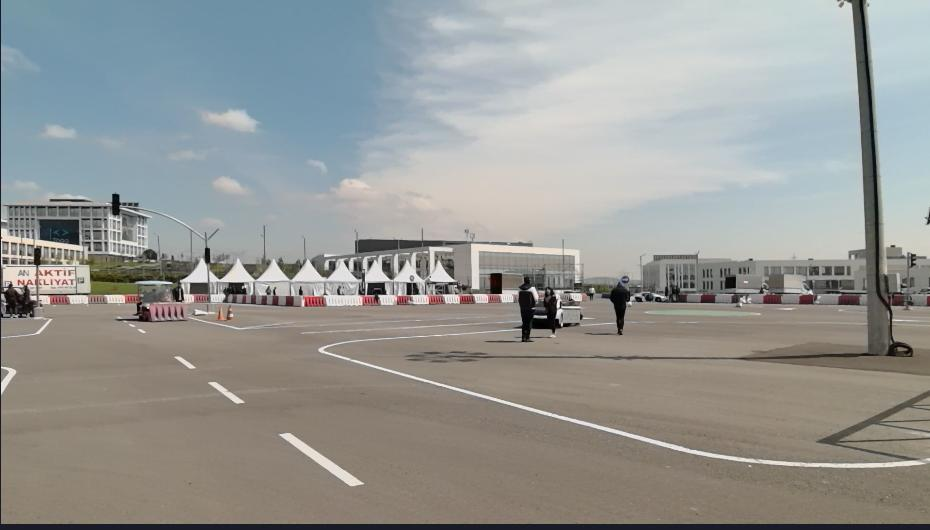nesne: (0, 305, 928, 525), (133, 310, 928, 528), (0, 303, 430, 526), (317, 325, 928, 468), (279, 431, 360, 485), (0, 248, 88, 293), (187, 294, 517, 306), (533, 285, 584, 336), (678, 292, 865, 304), (606, 280, 635, 335), (516, 272, 539, 340), (135, 280, 175, 318), (0, 312, 53, 339), (189, 312, 258, 330), (41, 293, 141, 304), (208, 379, 244, 404), (544, 284, 560, 337), (1, 284, 22, 317), (148, 302, 186, 320), (890, 292, 928, 306), (632, 289, 670, 303), (20, 283, 36, 314), (1, 366, 16, 393), (325, 295, 361, 306), (173, 353, 194, 369), (173, 279, 186, 297), (304, 295, 325, 306), (905, 293, 928, 303), (816, 294, 841, 303), (892, 294, 908, 307), (669, 282, 680, 300), (107, 294, 125, 304), (412, 295, 430, 305), (226, 303, 238, 318), (764, 293, 782, 303), (780, 292, 798, 302), (68, 295, 90, 303), (215, 302, 226, 318), (363, 295, 382, 304), (839, 294, 858, 303), (429, 295, 446, 305), (459, 293, 476, 303), (586, 284, 596, 301), (88, 294, 106, 303), (396, 294, 414, 303), (380, 295, 396, 305), (474, 293, 490, 303), (443, 294, 460, 303), (567, 292, 584, 301), (500, 293, 515, 303), (797, 292, 812, 302), (734, 295, 750, 304), (701, 293, 714, 304), (713, 294, 733, 301), (211, 293, 226, 302), (749, 293, 764, 302), (51, 294, 67, 302), (489, 294, 503, 303), (686, 293, 701, 301), (39, 295, 52, 304), (194, 294, 208, 302), (293, 295, 303, 306), (856, 294, 866, 305), (620, 274, 631, 284), (137, 325, 149, 333), (182, 295, 195, 302), (663, 284, 669, 299), (235, 293, 243, 304), (126, 293, 135, 302), (244, 293, 252, 303), (265, 294, 273, 304), (728, 295, 738, 303), (287, 295, 294, 306), (279, 295, 287, 304), (677, 294, 686, 301), (273, 296, 279, 304), (262, 296, 267, 305), (227, 294, 233, 301), (256, 296, 262, 303), (251, 295, 256, 303)
